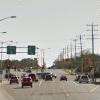Car: (18, 71, 37, 90)
